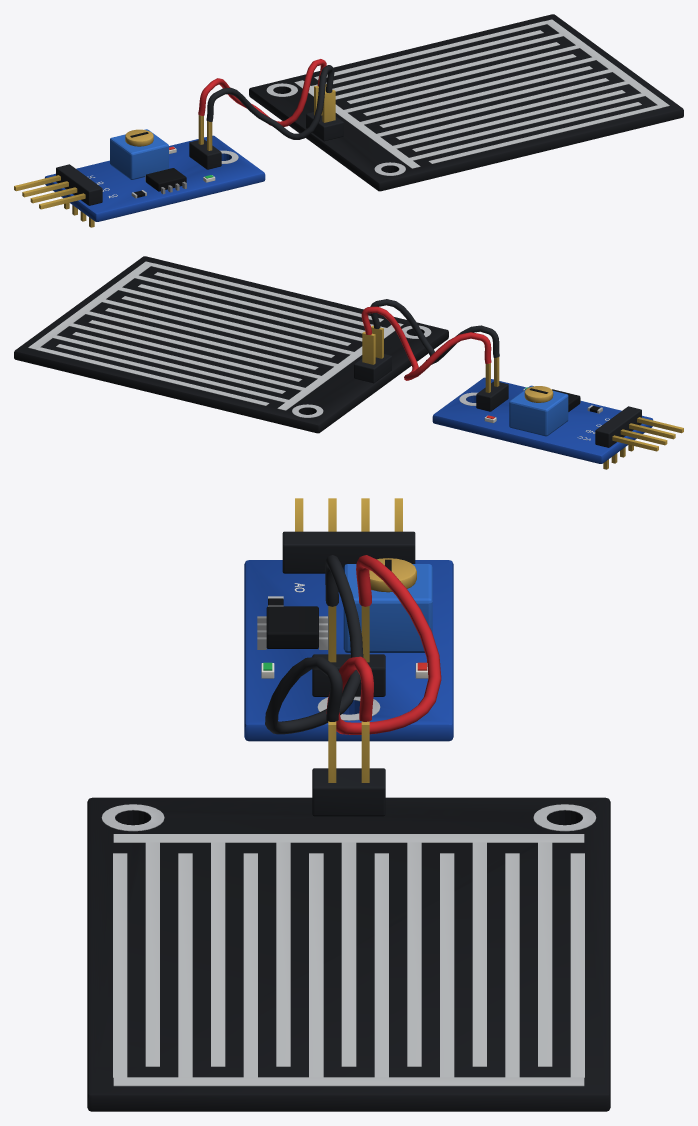
The model's file is raindrop.glb.
The picture shows the model from 3 angles, top to bottom: view 1: azimuth 30°, elevation 25°; view 2: azimuth 150°, elevation 25°; view 3: azimuth 270°, elevation 25°; orthographic projection. The views are drawn at different scales.
Visible parts, largest first — view 1: Rain_Plate, Rain_Board, Board; view 2: Rain_Plate, Rain_Board, Board; view 3: Rain_Plate, Rain_Board, Board.
Part boxes in pixels (box(x1,y1,x2,y2)): Rain_Plate: box(249, 14, 683, 191); Rain_Board: box(14, 115, 265, 227); Board: box(198, 59, 334, 139); Rain_Plate: box(14, 256, 448, 433); Rain_Board: box(432, 357, 683, 469); Board: box(361, 299, 499, 380); Rain_Plate: box(87, 721, 610, 1111); Rain_Board: box(244, 498, 453, 741); Board: box(265, 555, 441, 734).
Size of the model in its own units: 0.1045 by 0.0164 by 0.04.
